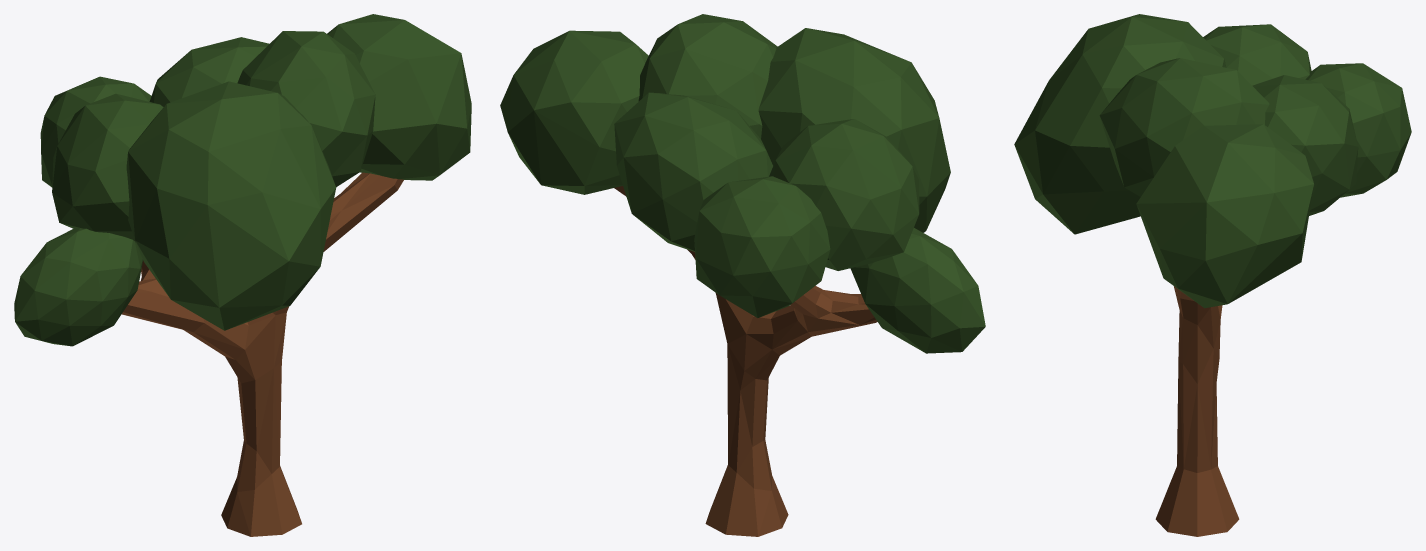
File: Tree_2.fbx
3 renders of one model, left to right at view 1: azimuth 30°, elevation 25°; view 2: azimuth 150°, elevation 25°; view 3: azimuth 270°, elevation 25°, orthographic. The views are drawn at different scales.
Parts seen in each view (by area): view 1: Tree_2; view 2: Tree_2; view 3: Tree_2.
Part boxes in pixels (x1=…): Tree_2: x1=14, y1=14, x2=471, y2=536; Tree_2: x1=500, y1=14, x2=985, y2=536; Tree_2: x1=1014, y1=14, x2=1411, y2=536.
Bounding box in the file's own units: 569 × 565 × 427.
